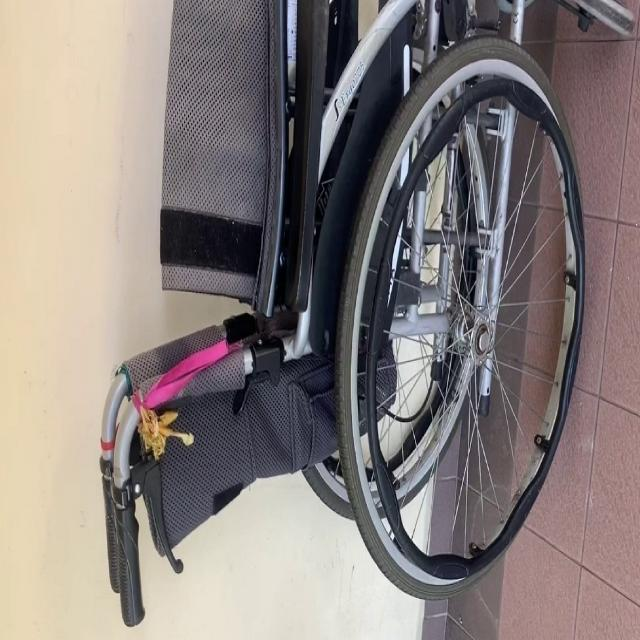wheelchair: (92, 0, 586, 640)
